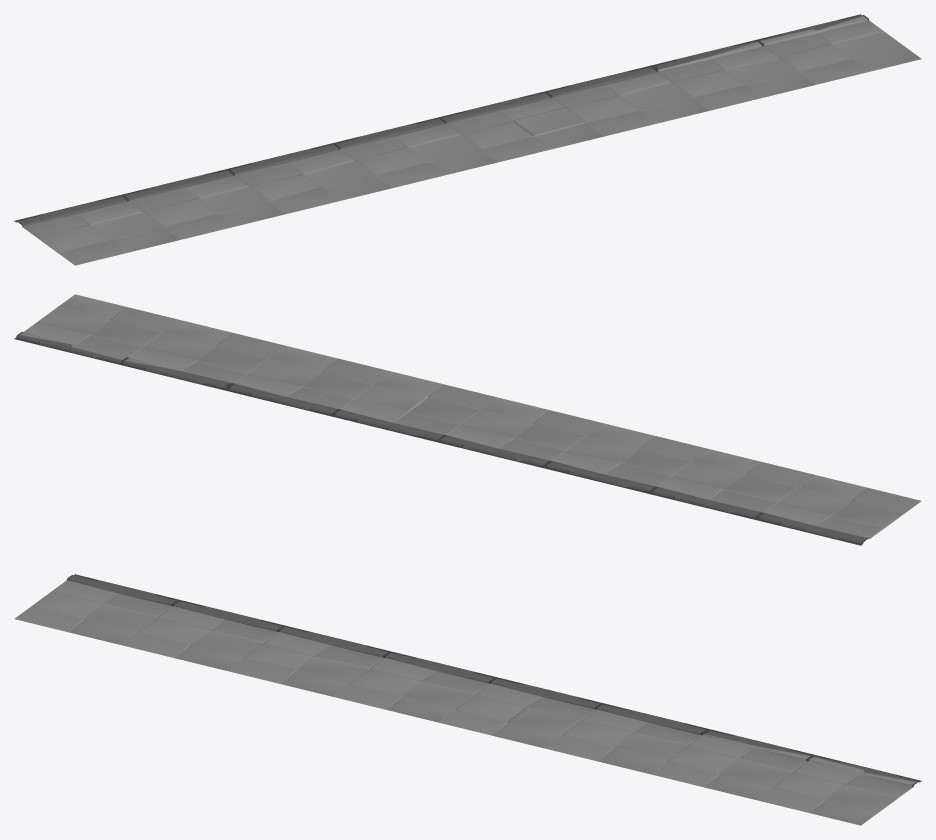
File: Sidewalk.fbx
3 renders of one model, top to bottom at view 1: azimuth 30°, elevation 25°; view 2: azimuth 150°, elevation 25°; view 3: azimuth 330°, elevation 25°, orthographic.
Visible parts, largest first — view 1: SM_Env_Sidewalk_Straight_01_SF66; view 2: SM_Env_Sidewalk_Straight_01_SF66; view 3: SM_Env_Sidewalk_Straight_01_SF66.
Boxes of the visible parts, x1=… form: SM_Env_Sidewalk_Straight_01_SF66: x1=14, y1=14, x2=921, y2=265; SM_Env_Sidewalk_Straight_01_SF66: x1=14, y1=294, x2=921, y2=545; SM_Env_Sidewalk_Straight_01_SF66: x1=14, y1=574, x2=921, y2=825.
Bounding box in the file's own units: 4000 × 6.97 × 500.
